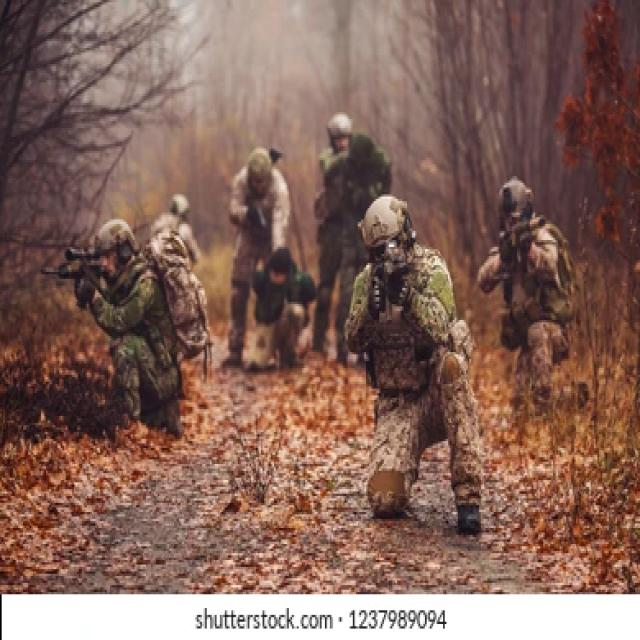soldier: (351, 203, 481, 536), (482, 173, 589, 432), (44, 228, 185, 424), (227, 151, 308, 392), (319, 109, 354, 341)
